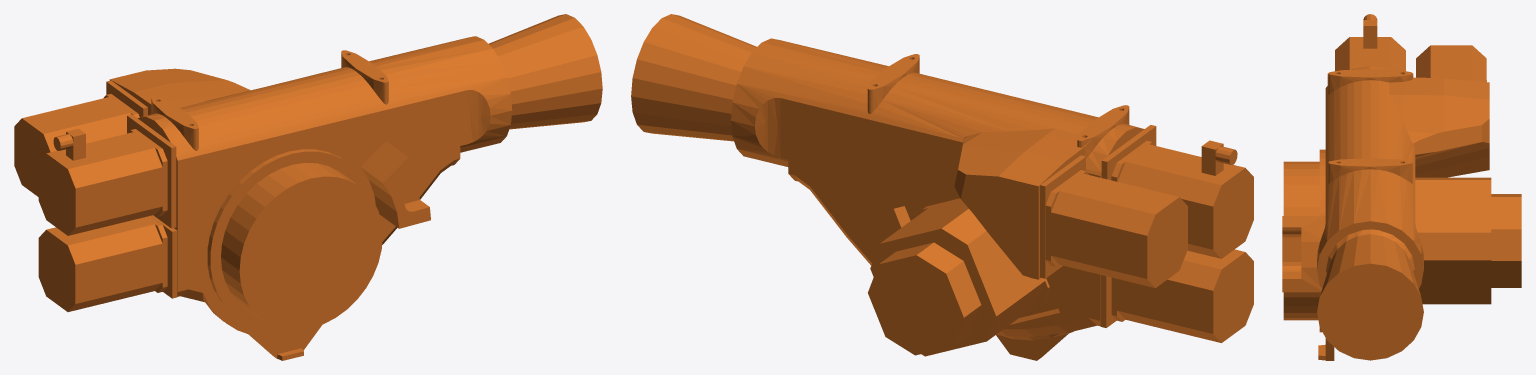
3 views of the same model, side by side, from view 1: azimuth 30°, elevation 25°; view 2: azimuth 150°, elevation 25°; view 3: azimuth 270°, elevation 25° (orthographic). The views are drawn at different scales.
Visible parts, largest first — view 1: link_3; view 2: link_3; view 3: link_3.
Part boxes in pixels (x1,y1,x2,y2): link_3: (14,14,602,360); link_3: (631,14,1253,360); link_3: (1282,14,1521,360).
Bounding box in the file's own units: 1.02 × 0.426 × 0.477.
